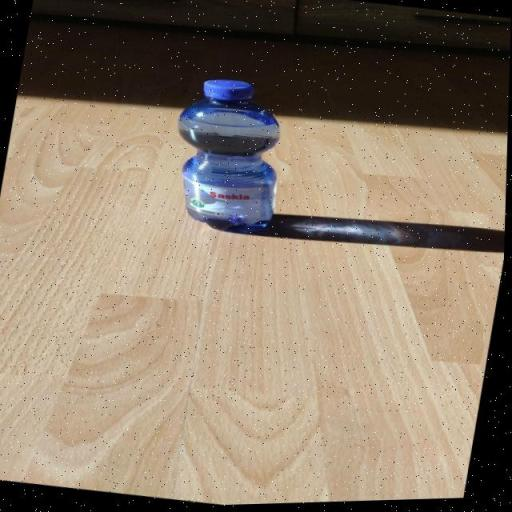plastic: (158, 72, 300, 241)
